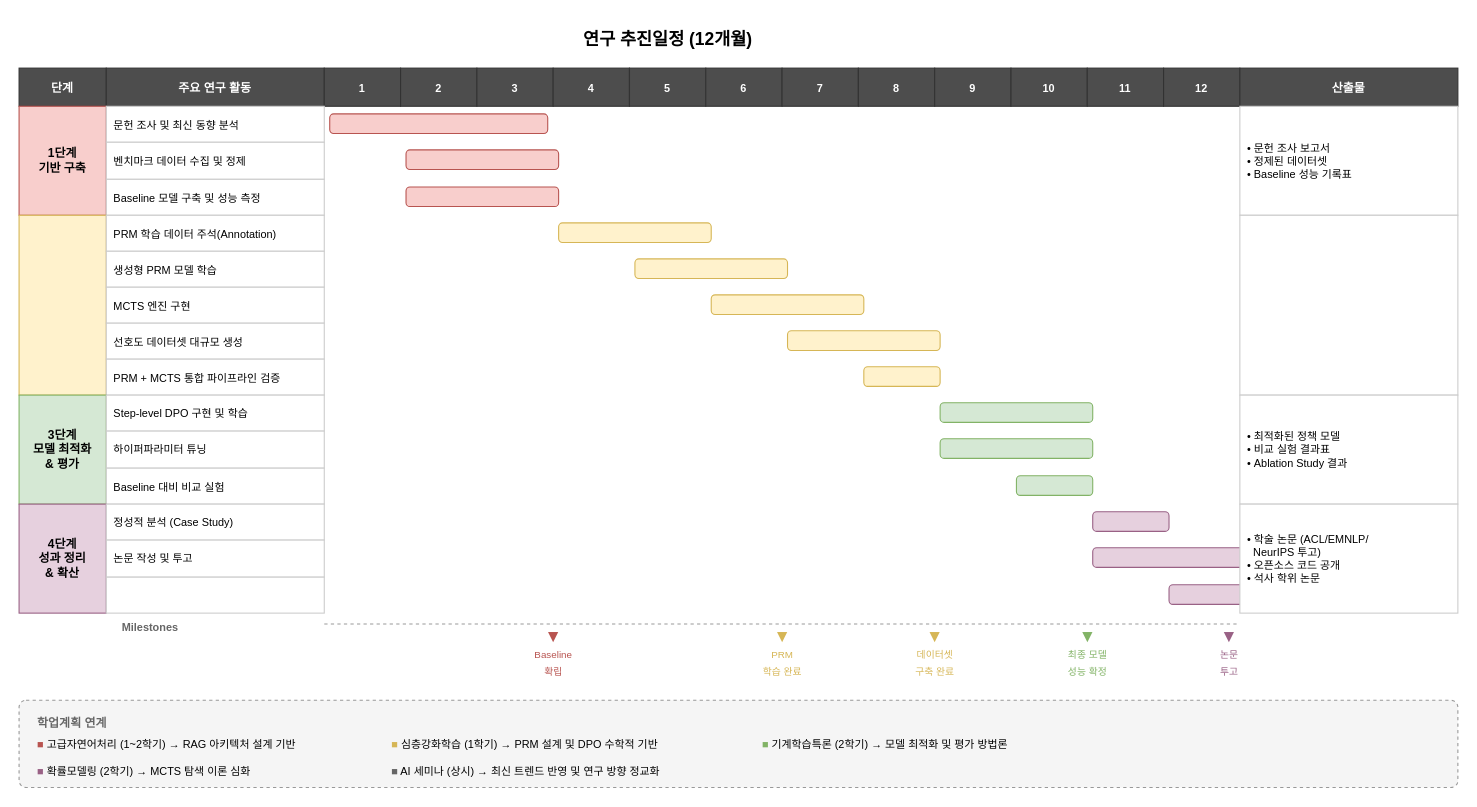
This 1477x807 diagram has some shape labels left out. The shapes that lost their labels are listed below. From the top down, each one's centre as x and y in pixels, then its label:
the point at 62,304: 2단계 핵심 알고리즘 개발
the point at 1348,304: • 학습된 Generative PRM • MCTS 엔진 코드 • 선호도 데이터셋 (Chosen/Rejected 쌍) • 중간 성능 평가 보고서
the point at 214,594: 오픈소스 공개 및 성과 발표
